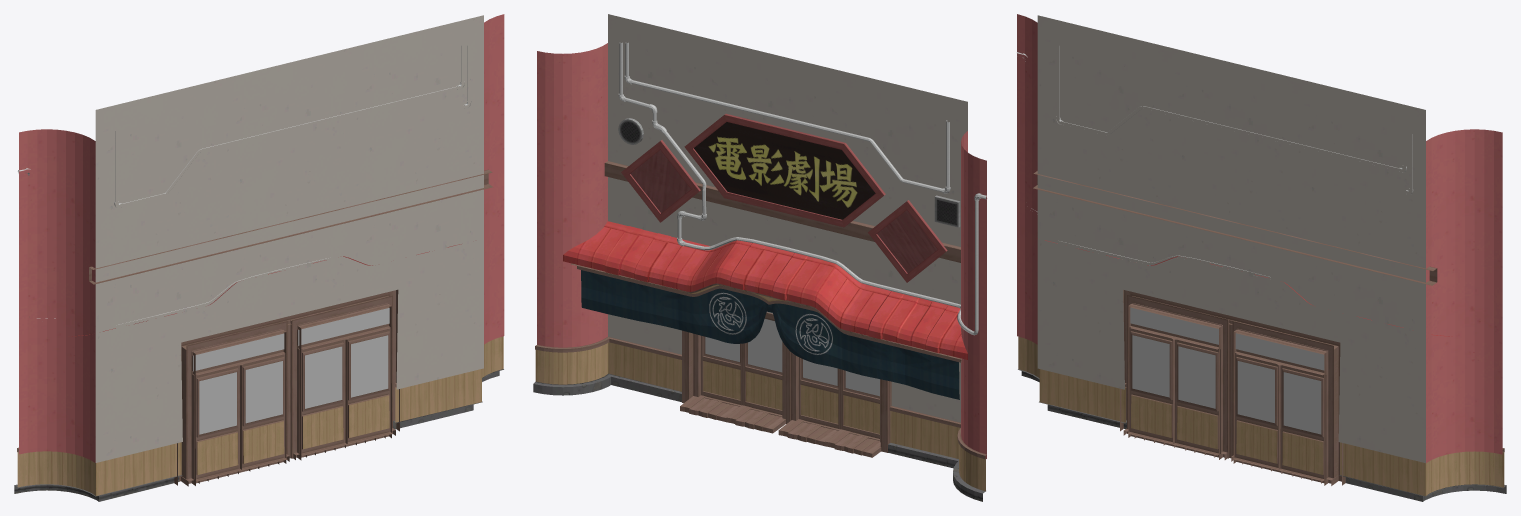
The model's file is SM_ENV_KNVLLG_AreaH_Building_A_Entrance.fbx.
3 renders of one model, left to right at view 1: azimuth 30°, elevation 25°; view 2: azimuth 150°, elevation 25°; view 3: azimuth 330°, elevation 25°, orthographic. The views are drawn at different scales.
Visible parts, largest first — view 1: SM_ENV_KNVLLG_AreaH_Building_A_Entrance.mo; view 2: SM_ENV_KNVLLG_AreaH_Building_A_Entrance.mo; view 3: SM_ENV_KNVLLG_AreaH_Building_A_Entrance.mo.
Part boxes in pixels (x1,y1,x2,y2): SM_ENV_KNVLLG_AreaH_Building_A_Entrance.mo: (14, 14, 504, 501); SM_ENV_KNVLLG_AreaH_Building_A_Entrance.mo: (533, 14, 987, 501); SM_ENV_KNVLLG_AreaH_Building_A_Entrance.mo: (1016, 14, 1506, 501).
Bounding box in the file's own units: 3067 × 2388 × 422.
